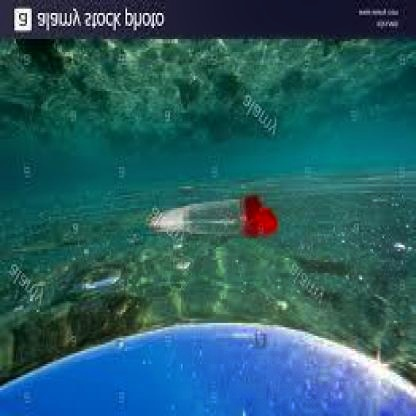pbottle: (143, 192, 279, 242)
